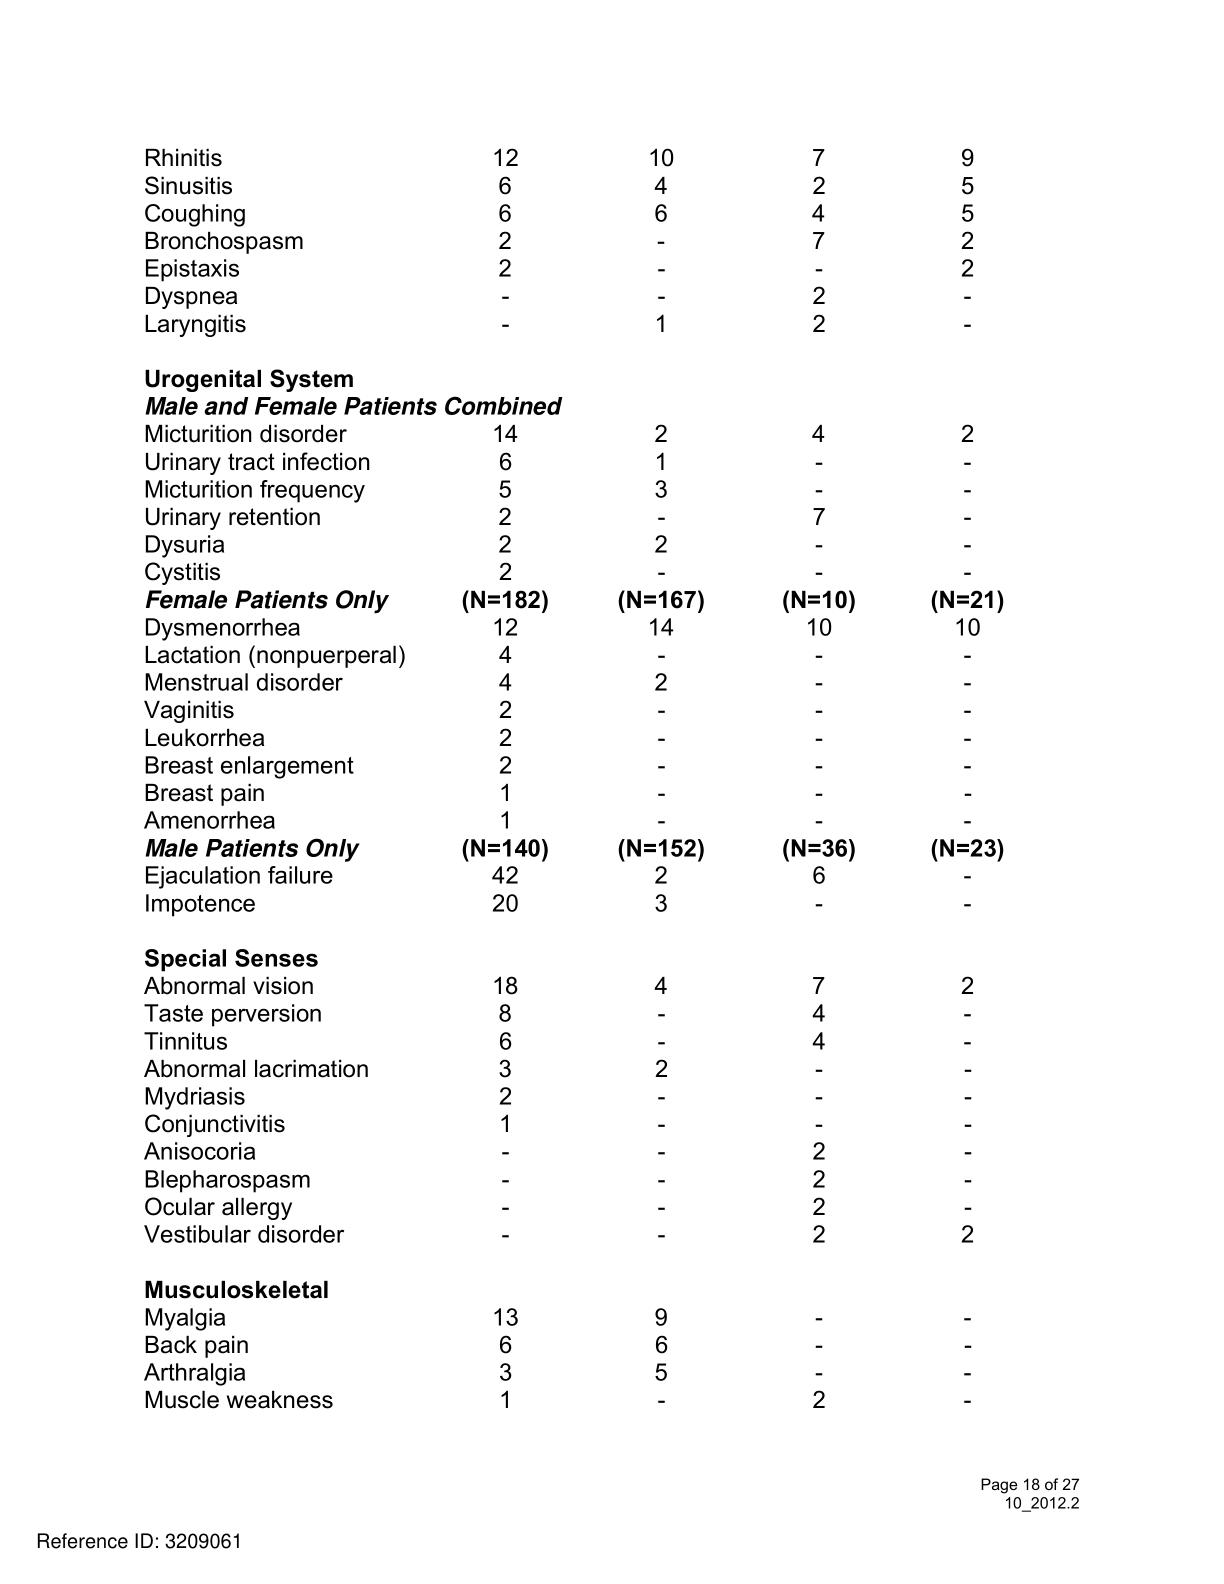nolines: (138, 140, 1005, 1414)
